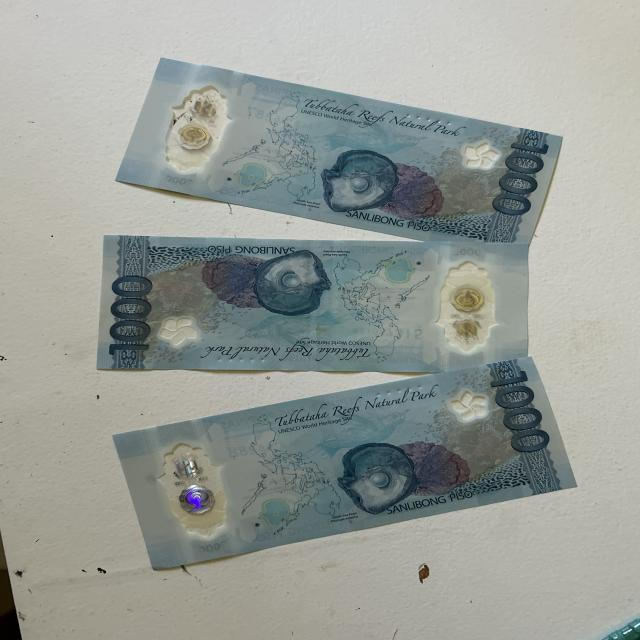clear_window: (153, 442, 241, 546), (433, 258, 503, 355), (162, 80, 227, 176)
sampaguita: (444, 389, 491, 425), (160, 314, 200, 352), (462, 135, 498, 169)
